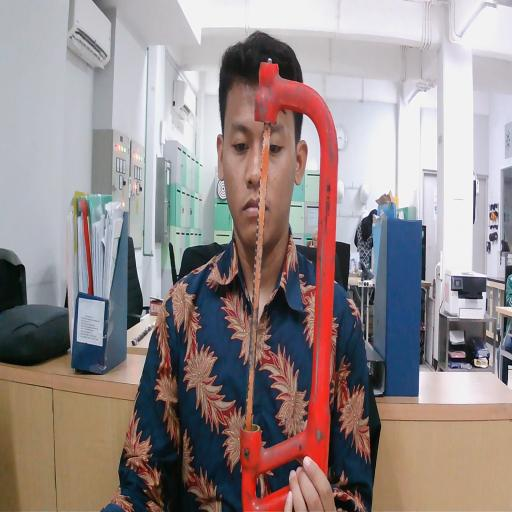gergaji_besi: (235, 51, 343, 512)
